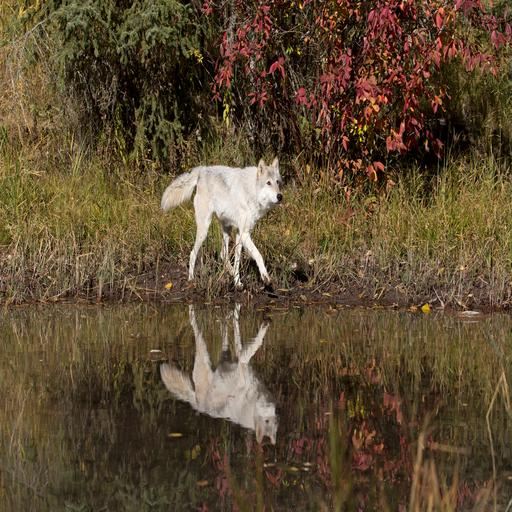Wolf: (158, 154, 298, 292)
